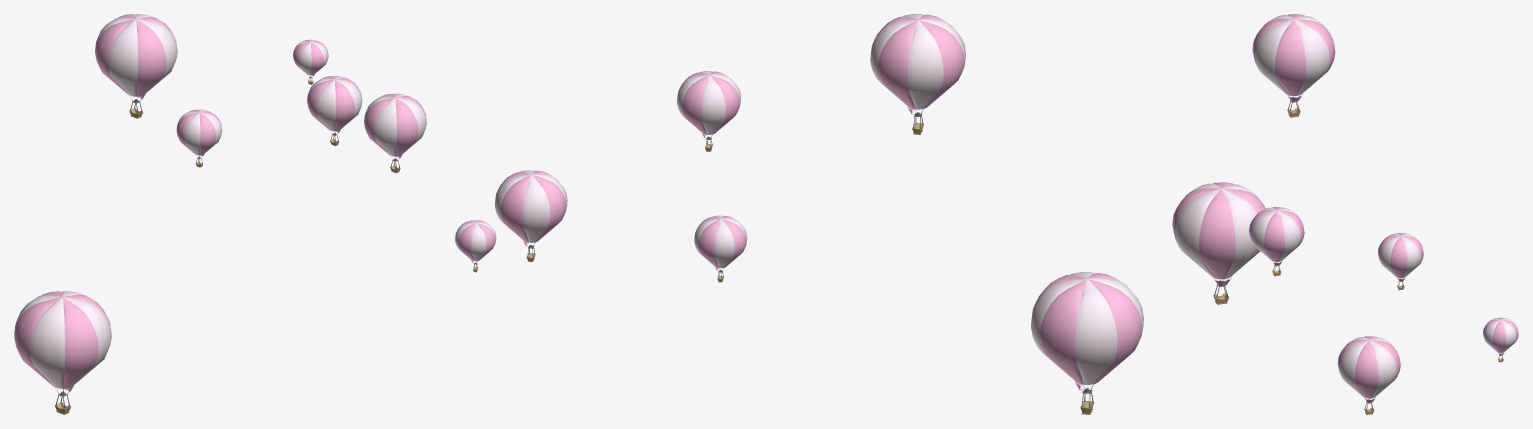
File: sky.glb
The picture shows the model from 3 angles, left to right: view 1: azimuth 30°, elevation 25°; view 2: azimuth 150°, elevation 25°; view 3: azimuth 270°, elevation 25°; orthographic projection. The views are drawn at different scales.
Visible parts, largest first — view 1: Bench_A_0036__M_Cnsw_11_F_Obj_01_Bench_A_0036__M_Cnsw_11_F_. (×5), Bench_A_0036__M_Cnsw_11_F_Obj_01_Bench_A_0036__M_Cnsw_11_F_; view 2: Bench_A_0036__M_Cnsw_11_F_Obj_01_Bench_A_0036__M_Cnsw_11_F_. (×5), Bench_A_0036__M_Cnsw_11_F_Obj_01_Bench_A_0036__M_Cnsw_11_F_; view 3: Bench_A_0036__M_Cnsw_11_F_Obj_01_Bench_A_0036__M_Cnsw_11_F_. (×5), Bench_A_0036__M_Cnsw_11_F_Obj_01_Bench_A_0036__M_Cnsw_11_F_.
Boxes of the visible parts, left/top/right/bottom form: Bench_A_0036__M_Cnsw_11_F_Obj_01_Bench_A_0036__M_Cnsw_11_F_. (×5): left=14, top=39, right=426, bottom=414; Bench_A_0036__M_Cnsw_11_F_Obj_01_Bench_A_0036__M_Cnsw_11_F_: left=95, top=14, right=177, bottom=118; Bench_A_0036__M_Cnsw_11_F_Obj_01_Bench_A_0036__M_Cnsw_11_F_. (×5): left=455, top=71, right=1143, bottom=414; Bench_A_0036__M_Cnsw_11_F_Obj_01_Bench_A_0036__M_Cnsw_11_F_: left=870, top=14, right=965, bottom=134; Bench_A_0036__M_Cnsw_11_F_Obj_01_Bench_A_0036__M_Cnsw_11_F_. (×5): left=1172, top=182, right=1518, bottom=414; Bench_A_0036__M_Cnsw_11_F_Obj_01_Bench_A_0036__M_Cnsw_11_F_: left=1252, top=14, right=1335, bottom=117.
Bounding box in the file's own units: 30.91 × 21.02 × 19.59.
Materials: 1 (1 with a texture image).
